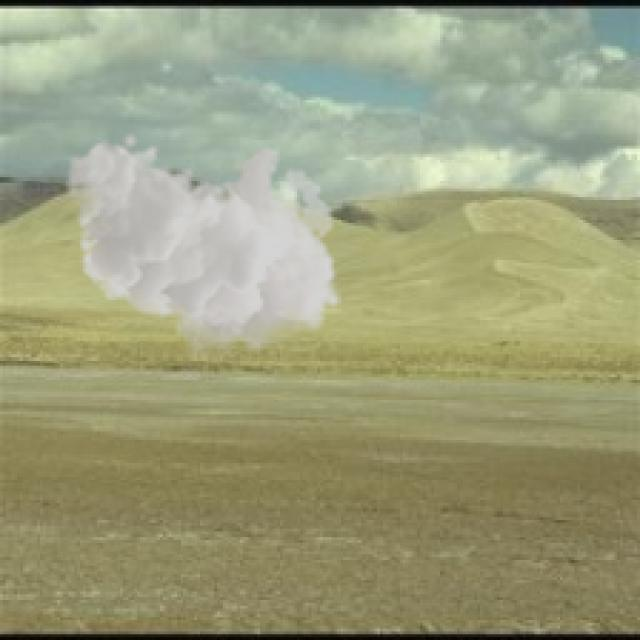smoke: (66, 131, 343, 363)
